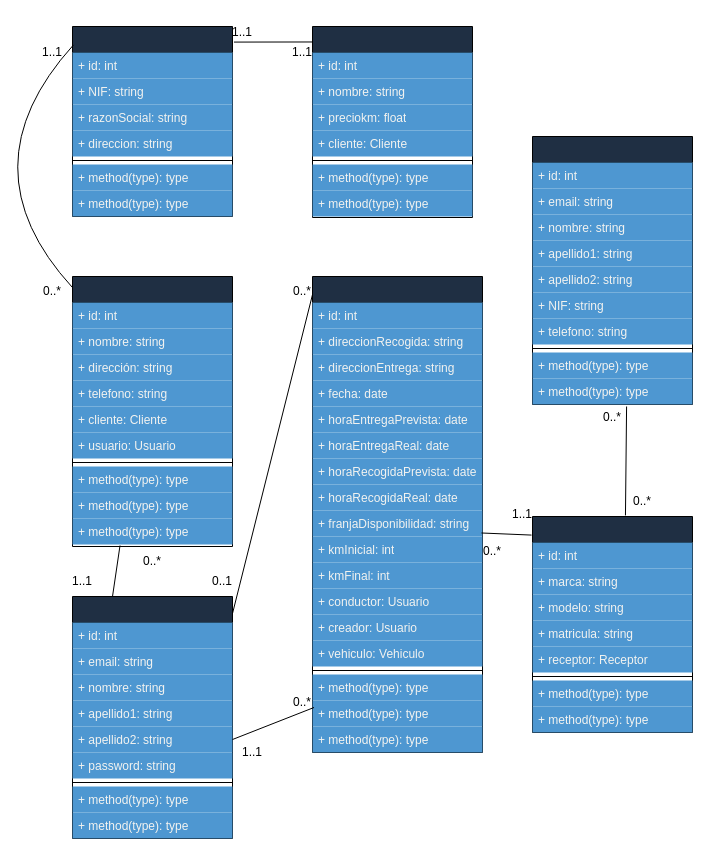
Some shapes in this 710 by 858 pixel diagram are drawn without their labels. Here are the shapes that lost their labels. From the top down, the box of each, then its label:
(72, 26, 232, 216): CLIENTE
(312, 26, 472, 218): TARIFA
(532, 136, 692, 404): RECEPTOR
(72, 276, 232, 546): CENTRO
(312, 276, 482, 752): SERVICIO
(532, 516, 692, 732): VEHICULO
(72, 596, 232, 838): USUARIO
